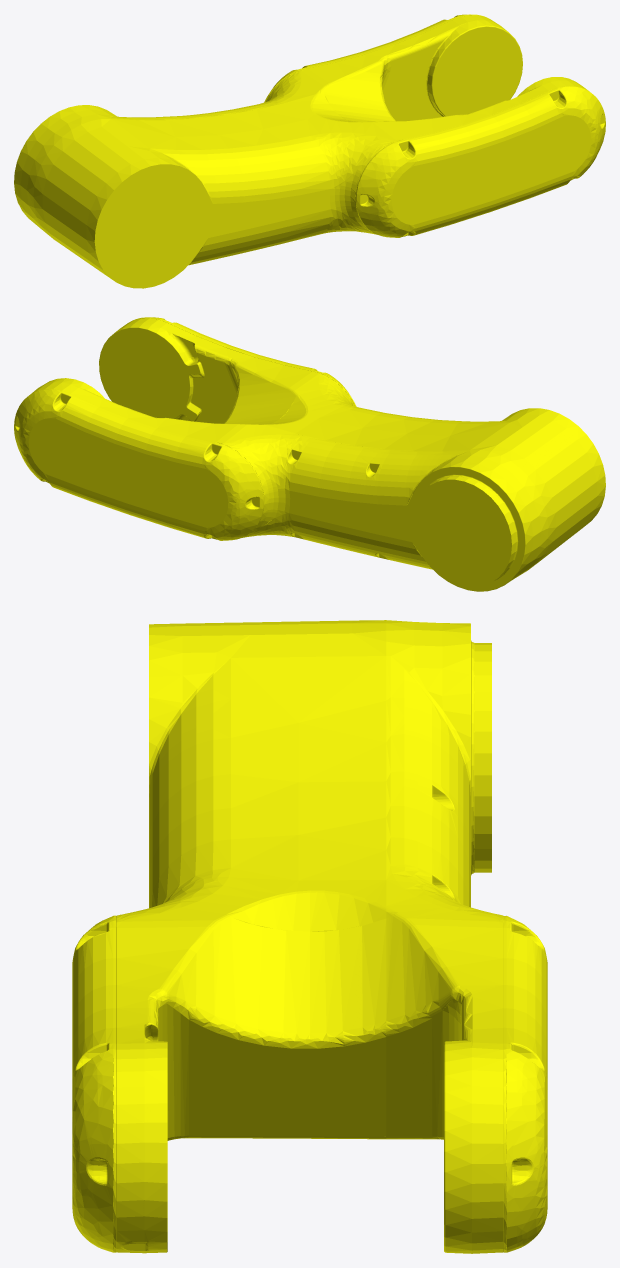
3 renders of one model, top to bottom at view 1: azimuth 30°, elevation 25°; view 2: azimuth 150°, elevation 25°; view 3: azimuth 270°, elevation 25°, orthographic. The views are drawn at different scales.
Parts seen in each view (by area): view 1: node; view 2: node; view 3: node.
Part boxes in pixels (<box>): node: <box>14,14,605,288</box>; node: <box>14,317,605,591</box>; node: <box>72,620,547,1253</box>.
Size of the model in its own units: 557 by 135 by 227.
